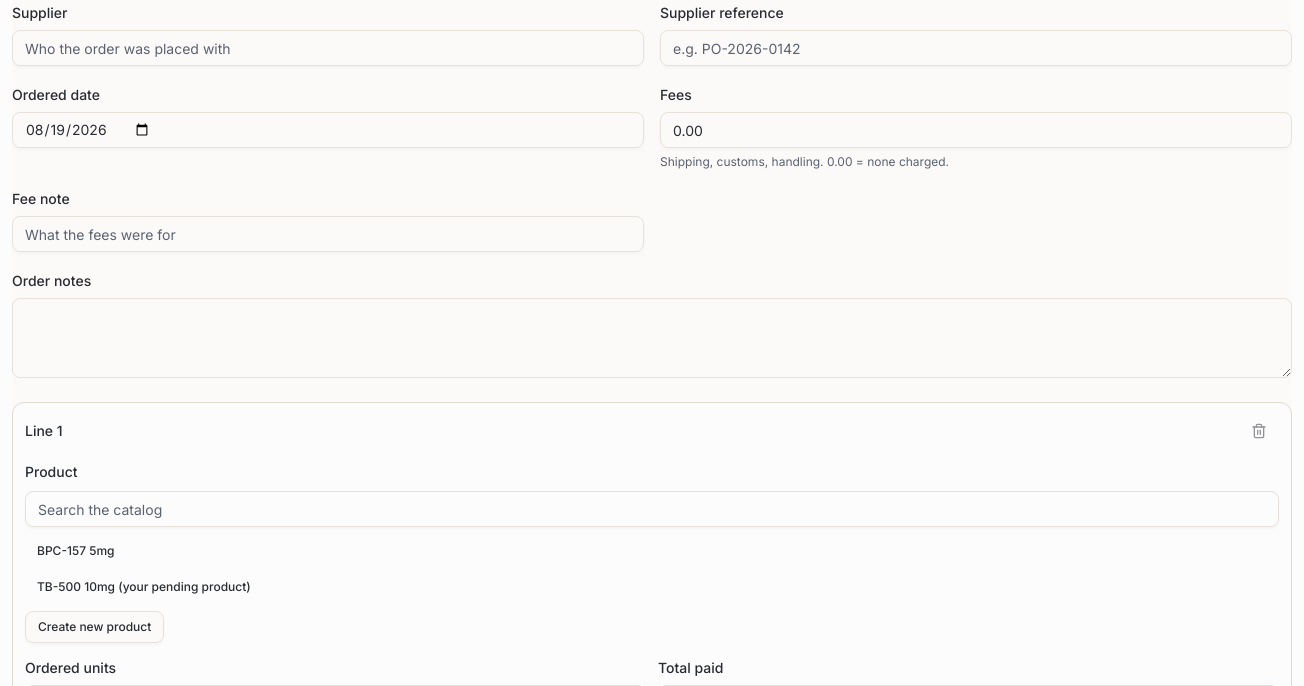
the product picker › tells a non-admin their new product arrives PENDING REVIEW
Click the button with test id "create-new-product-0" at (95, 627), box [25,611,164,643]
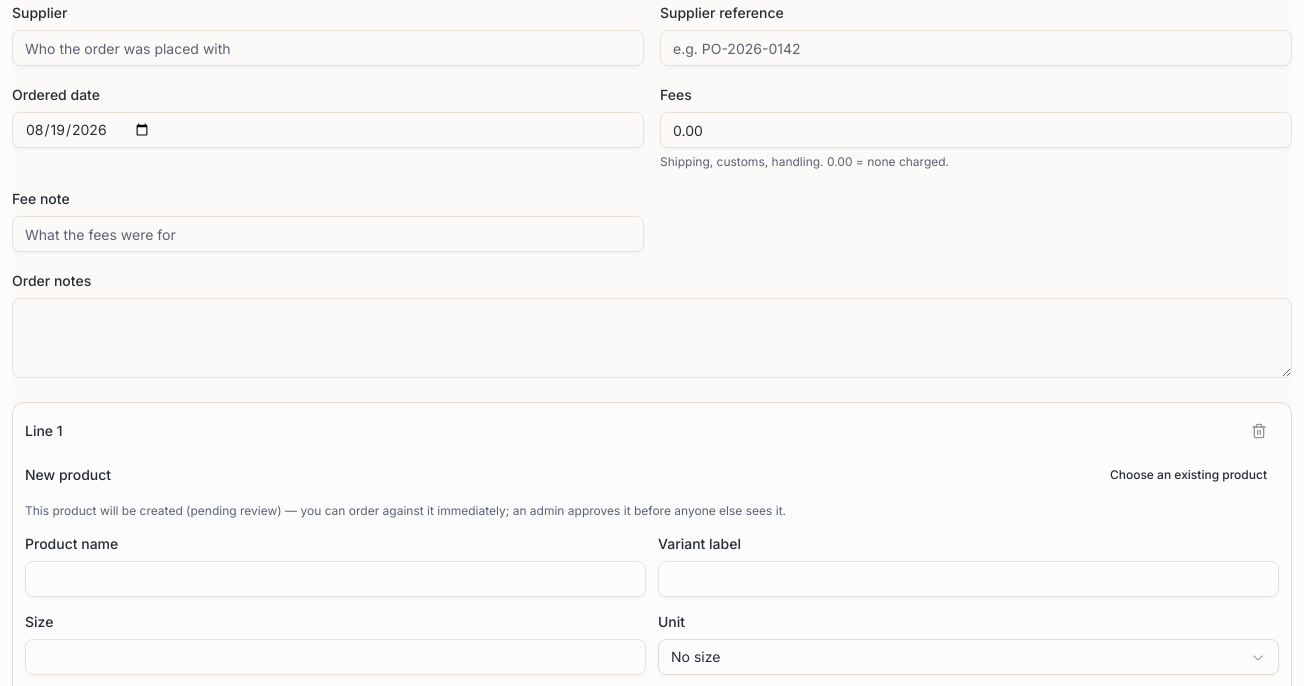
Now the text with test id "new-product-approval-note-0" shows "pending review", box [25,503,786,518]
